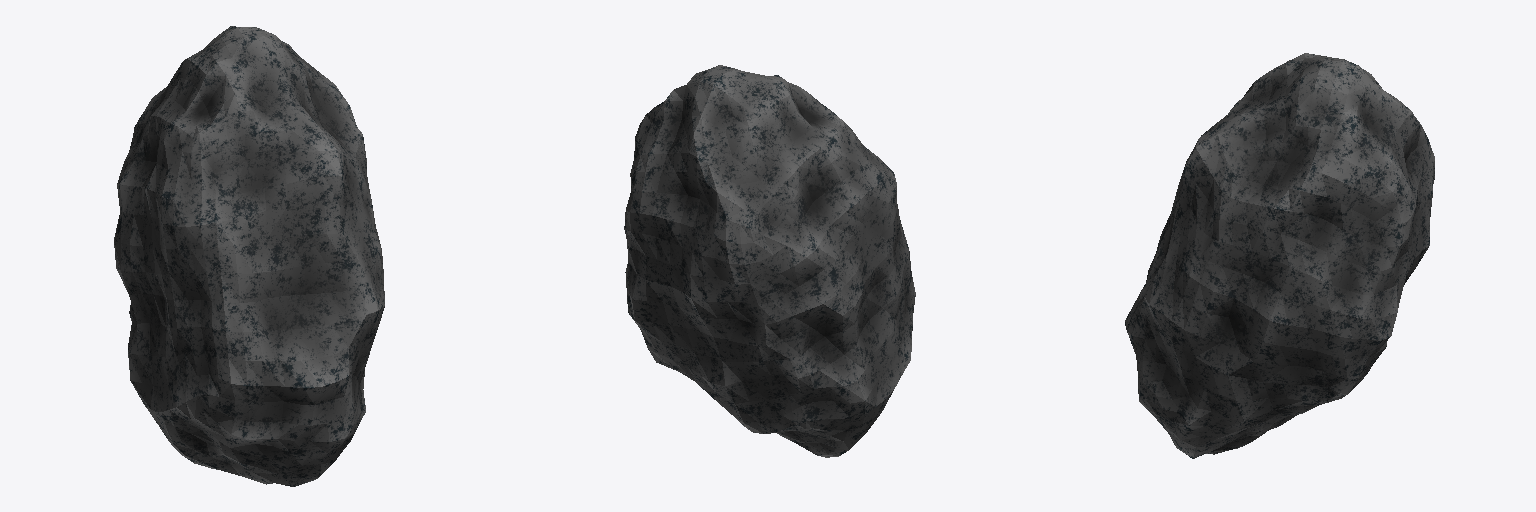
3 views of the same model, side by side, from view 1: azimuth 30°, elevation 25°; view 2: azimuth 150°, elevation 25°; view 3: azimuth 270°, elevation 25° (orthographic).
Parts seen in each view (by area): view 1: Pedra1; view 2: Pedra1; view 3: Pedra1.
Part boxes in pixels (x1,y1,x2,y2): Pedra1: (114,26,384,486); Pedra1: (624,65,915,457); Pedra1: (1125,53,1434,458).
Size of the model in its own units: 3.41 by 5.9 by 4.11.
Materials: 1 (1 with a texture image).